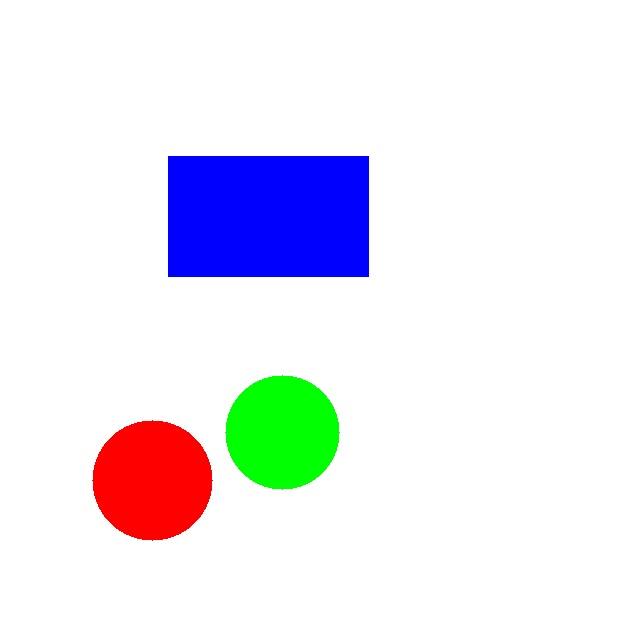cartao: (168, 156, 368, 276)
rosca_externa: (225, 375, 339, 489)
rosca_interna: (92, 420, 212, 540)
